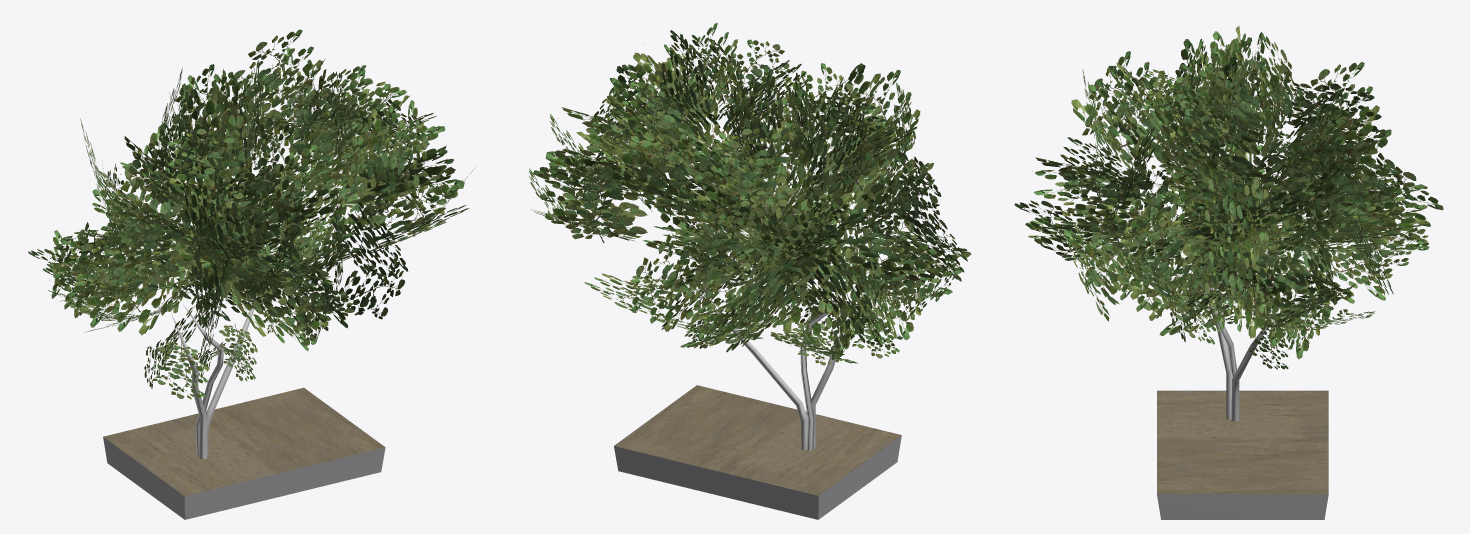
File: Prop_Plant_02.FBX
The picture shows the model from 3 angles, left to right: view 1: azimuth 30°, elevation 25°; view 2: azimuth 150°, elevation 25°; view 3: azimuth 270°, elevation 25°; orthographic projection. The views are drawn at different scales.
Parts seen in each view (by area): view 1: Prop_Plant_02; view 2: Prop_Plant_02; view 3: Prop_Plant_02.
Boxes of the visible parts, x1,y1,x2,y2 form: Prop_Plant_02: (28, 29, 474, 519); Prop_Plant_02: (529, 23, 971, 519); Prop_Plant_02: (1014, 25, 1443, 519).
Bounding box in the file's own units: 4.81 × 4.73 × 4.25.
